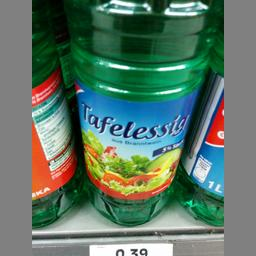vinegar: (65, 0, 214, 227)
